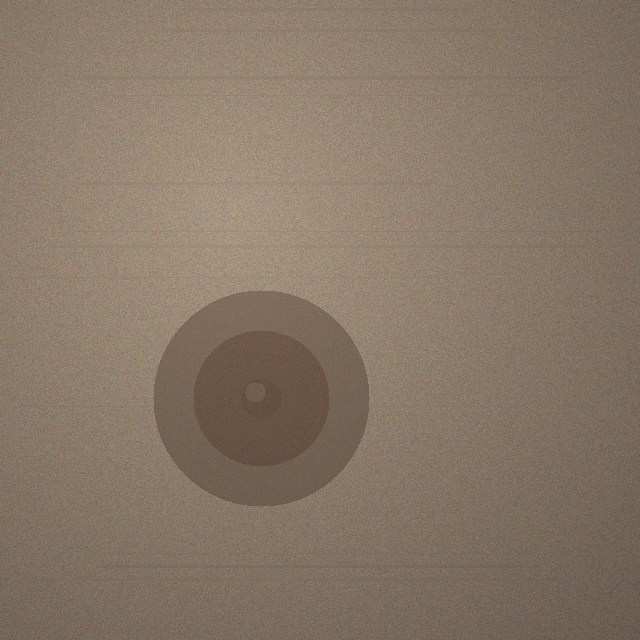good: (153, 290, 369, 506)
